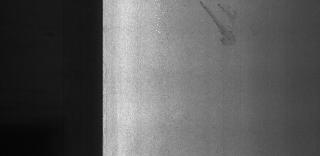water spot: (193, 1, 260, 51)
